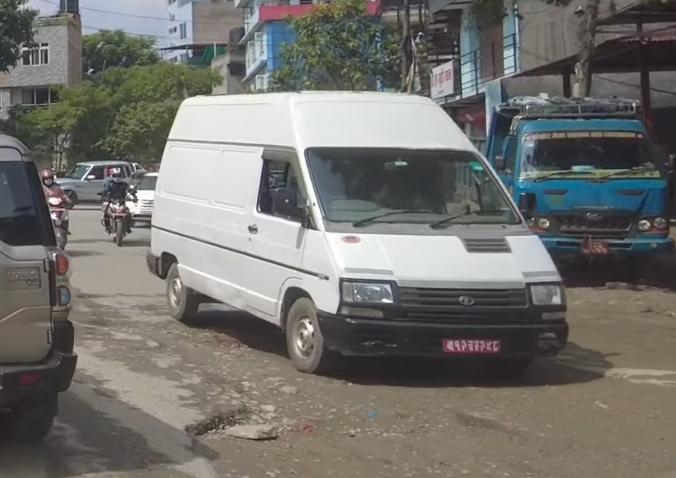SUV: (0, 129, 79, 459)
bike: (99, 191, 131, 246)
micro_bus: (142, 81, 579, 383)
mini_truck: (474, 89, 671, 281)
scooter: (44, 192, 74, 259)
